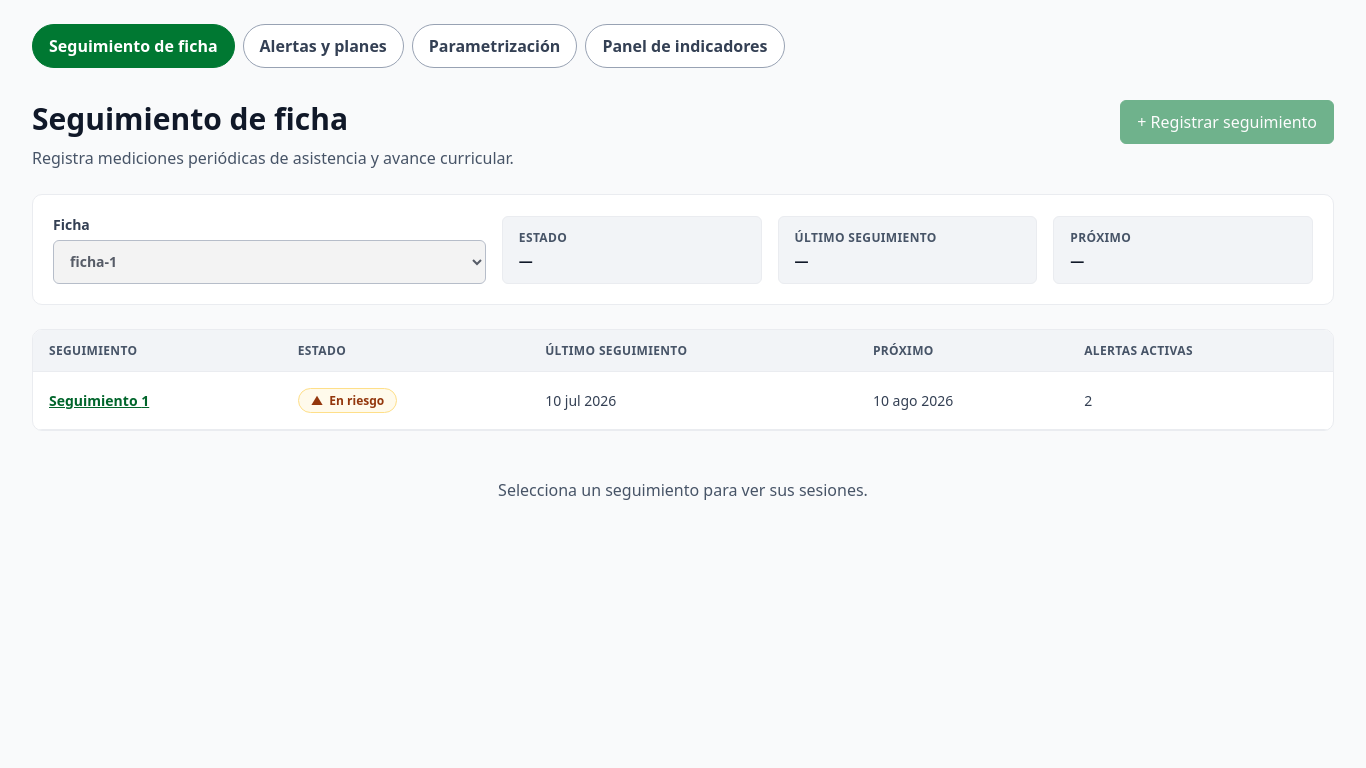
Test case: HU-MON-007 seguimiento de ficha › E5: registra una sesion con POST .../tracking-sessions y nunca hace POST /ficha-trackings
This screenshot has width=1366, height=768.
Step 1. Click the button with aria-label "Abrir seguimiento 1" → (99,400), box [49,390,149,410]
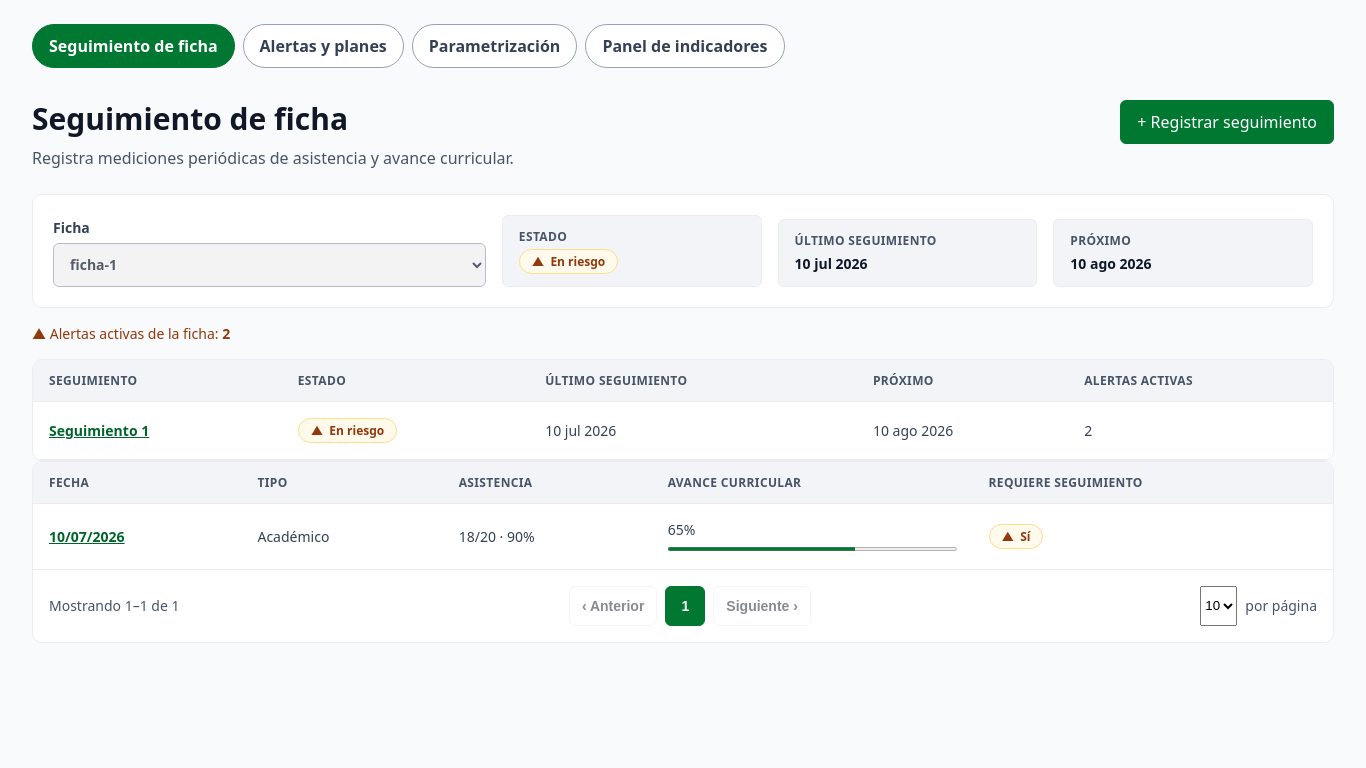
Expected: the text "Académico" is shown, [242,504,443,569]
Step 2. Click the button "+ Registrar seguimiento" → (1227,122), box [1120,100,1334,144]
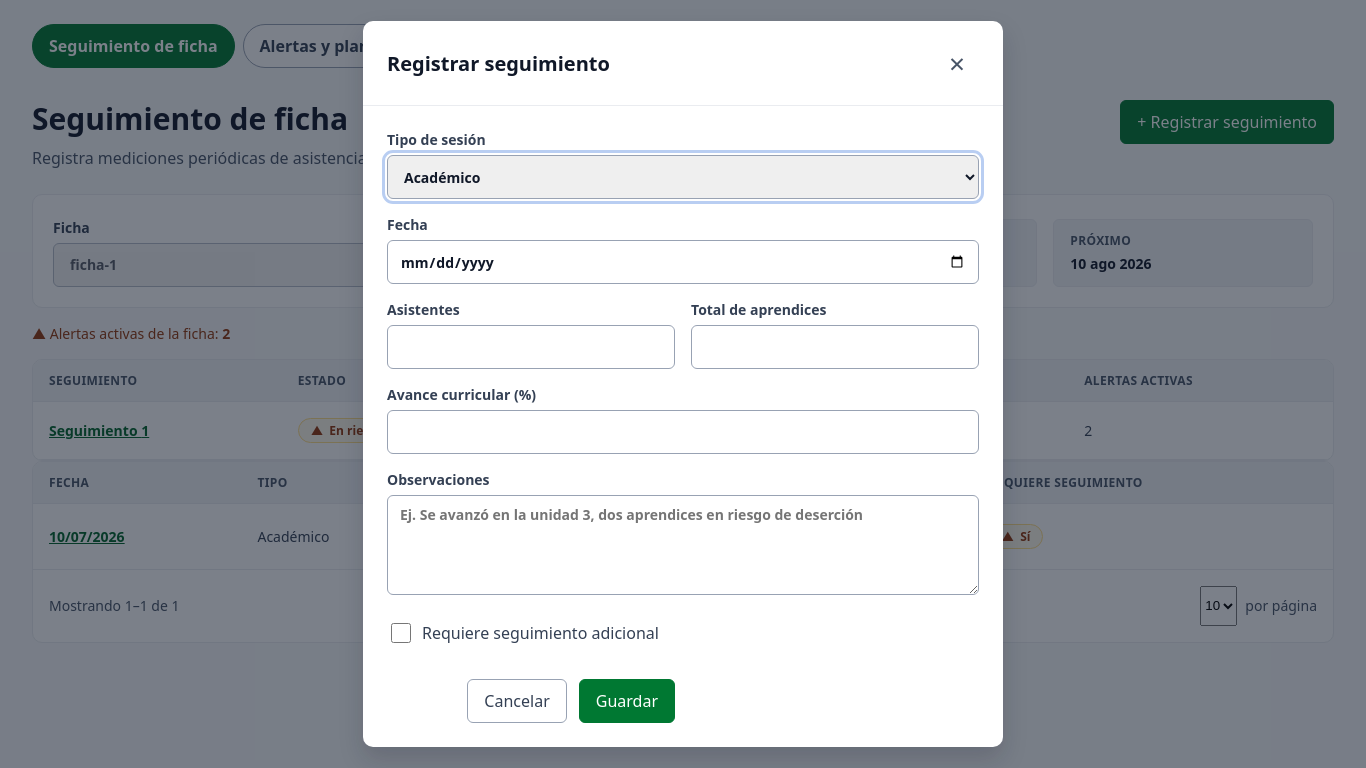
Step 3. Type "2026-10-05" into the date field labelled "Fecha" → (683,262), box [387,240,979,284]
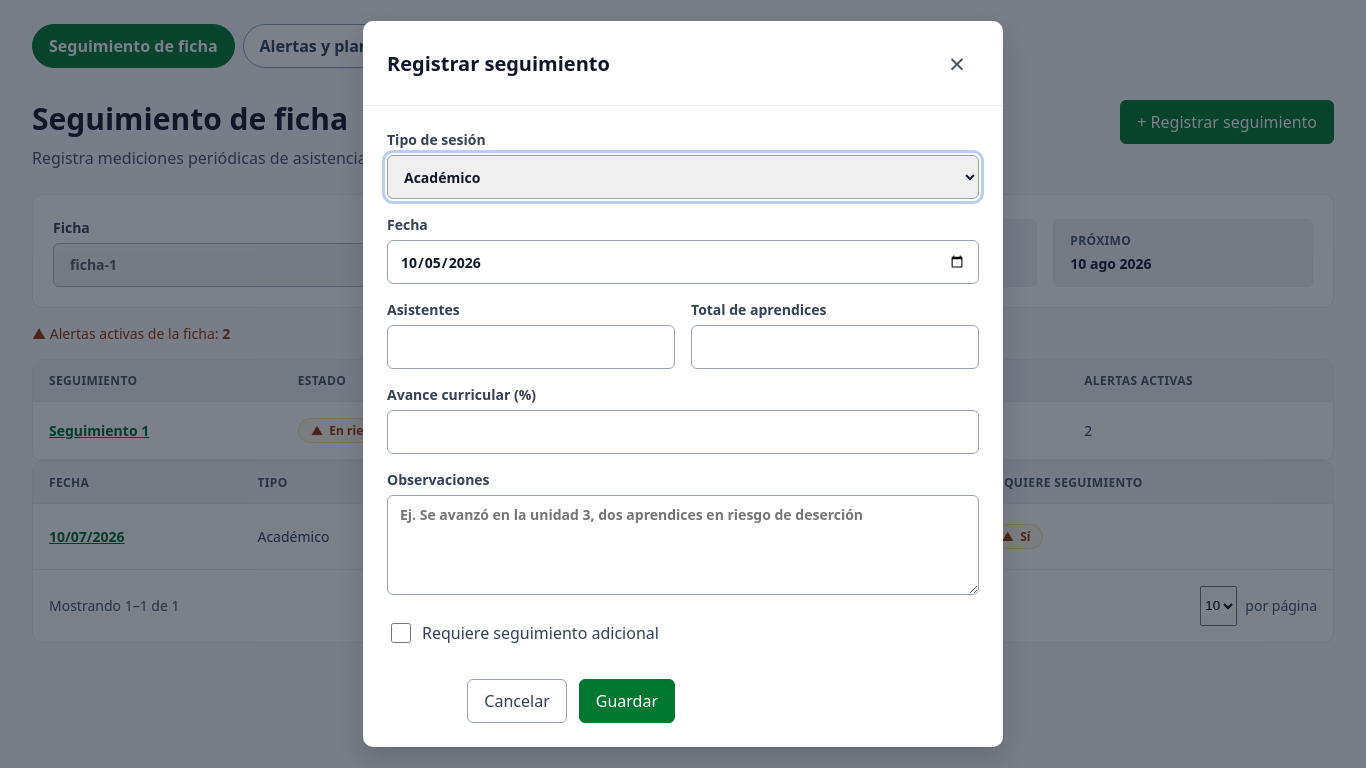
Step 4. Click the button "Guardar" → (627,701), box [579,679,675,723]
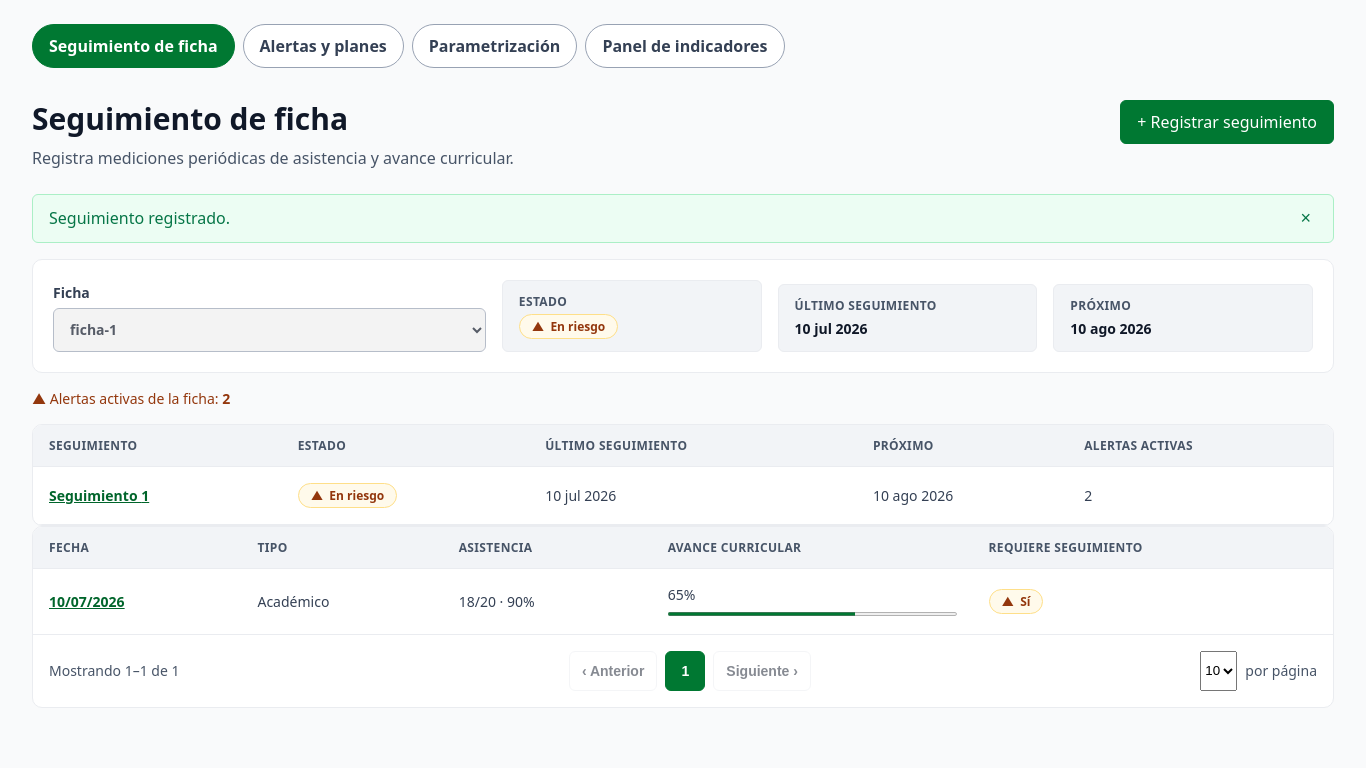
Expected: the text "Seguimiento registrado." is shown, [49,207,230,229]
